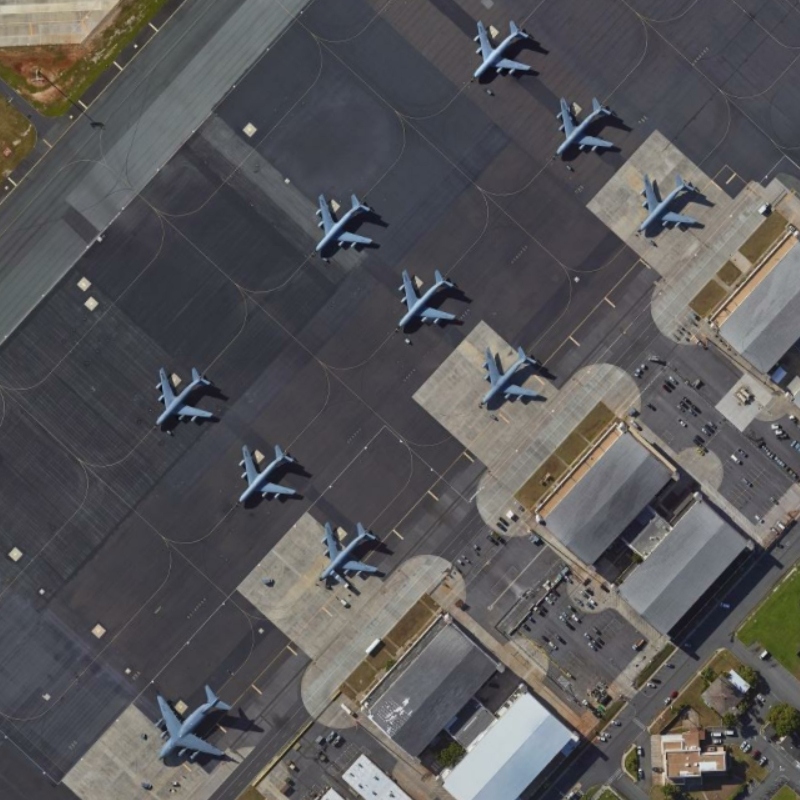A14: (550, 92, 620, 163), (634, 169, 703, 239), (233, 440, 302, 507), (468, 16, 538, 82), (393, 265, 458, 333), (151, 363, 217, 429), (313, 190, 378, 256), (478, 344, 544, 409), (318, 519, 382, 584)
A3: (151, 679, 233, 766)
